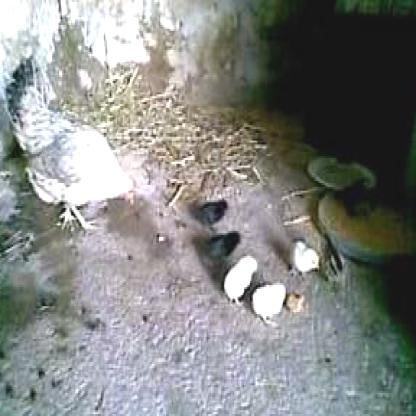chicken: (7, 56, 137, 231)
